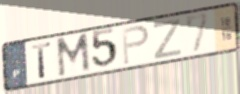5: (89, 26, 120, 72)
7: (183, 10, 212, 56)
M: (54, 31, 93, 80)
P: (120, 24, 150, 67)
T: (30, 41, 53, 80)
Z: (152, 17, 182, 61)
